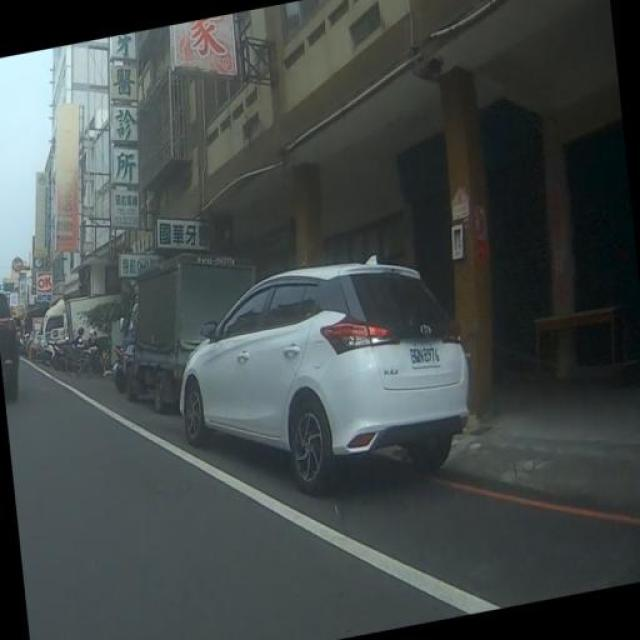illegalparking: (77, 200, 524, 518)
